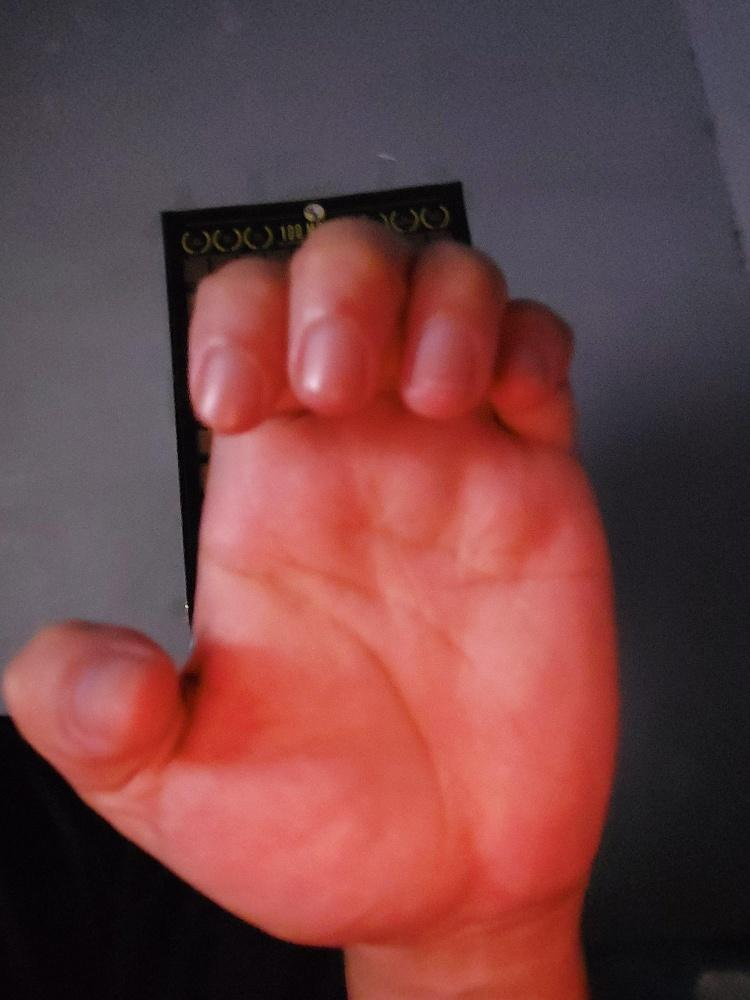e: (0, 207, 624, 952)
